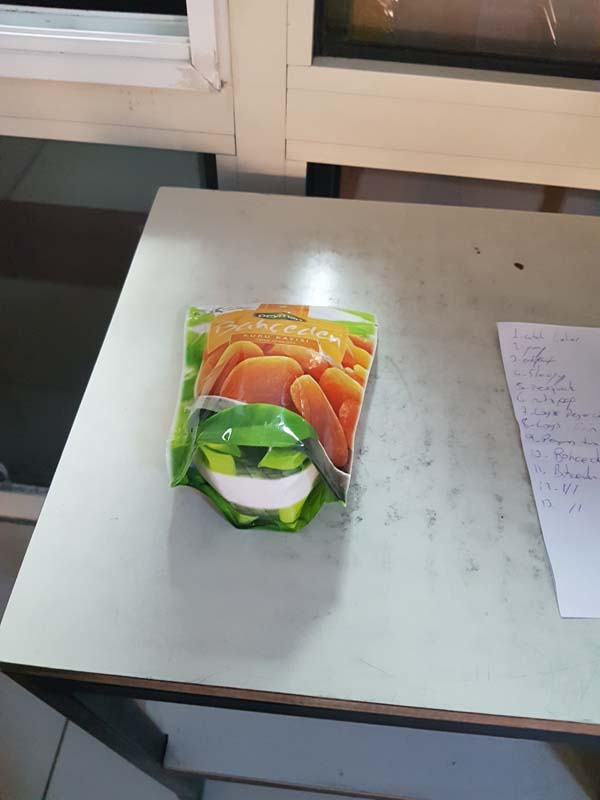bahcedenkurukayisi: (164, 292, 383, 536)
